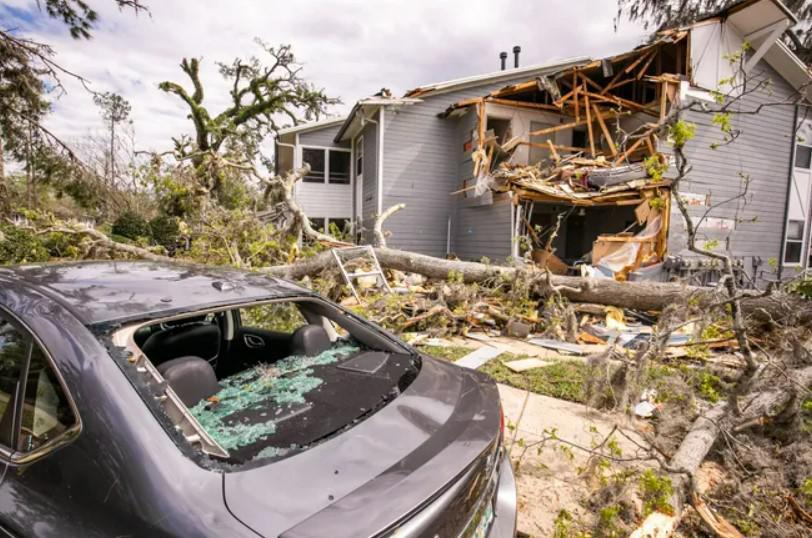major: (270, 6, 804, 294)
